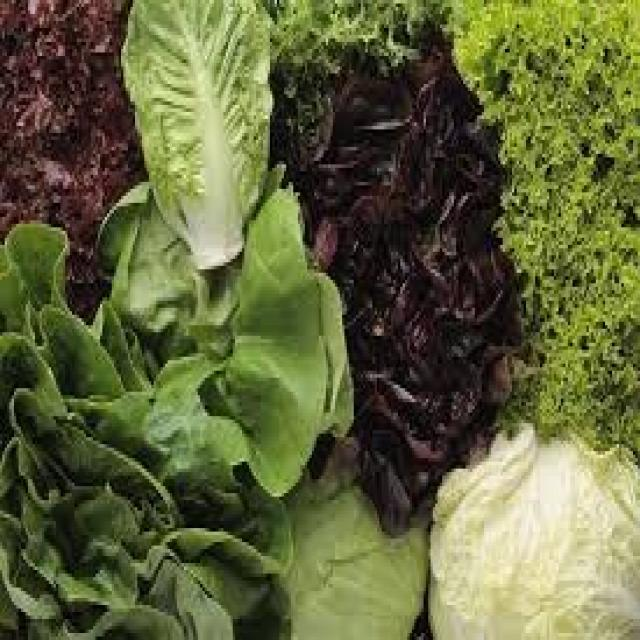organic waste: (0, 158, 349, 636), (270, 46, 521, 528), (442, 0, 638, 451), (428, 416, 638, 637), (0, 0, 139, 311), (119, 0, 270, 266), (256, 451, 428, 637), (260, 0, 444, 52)
